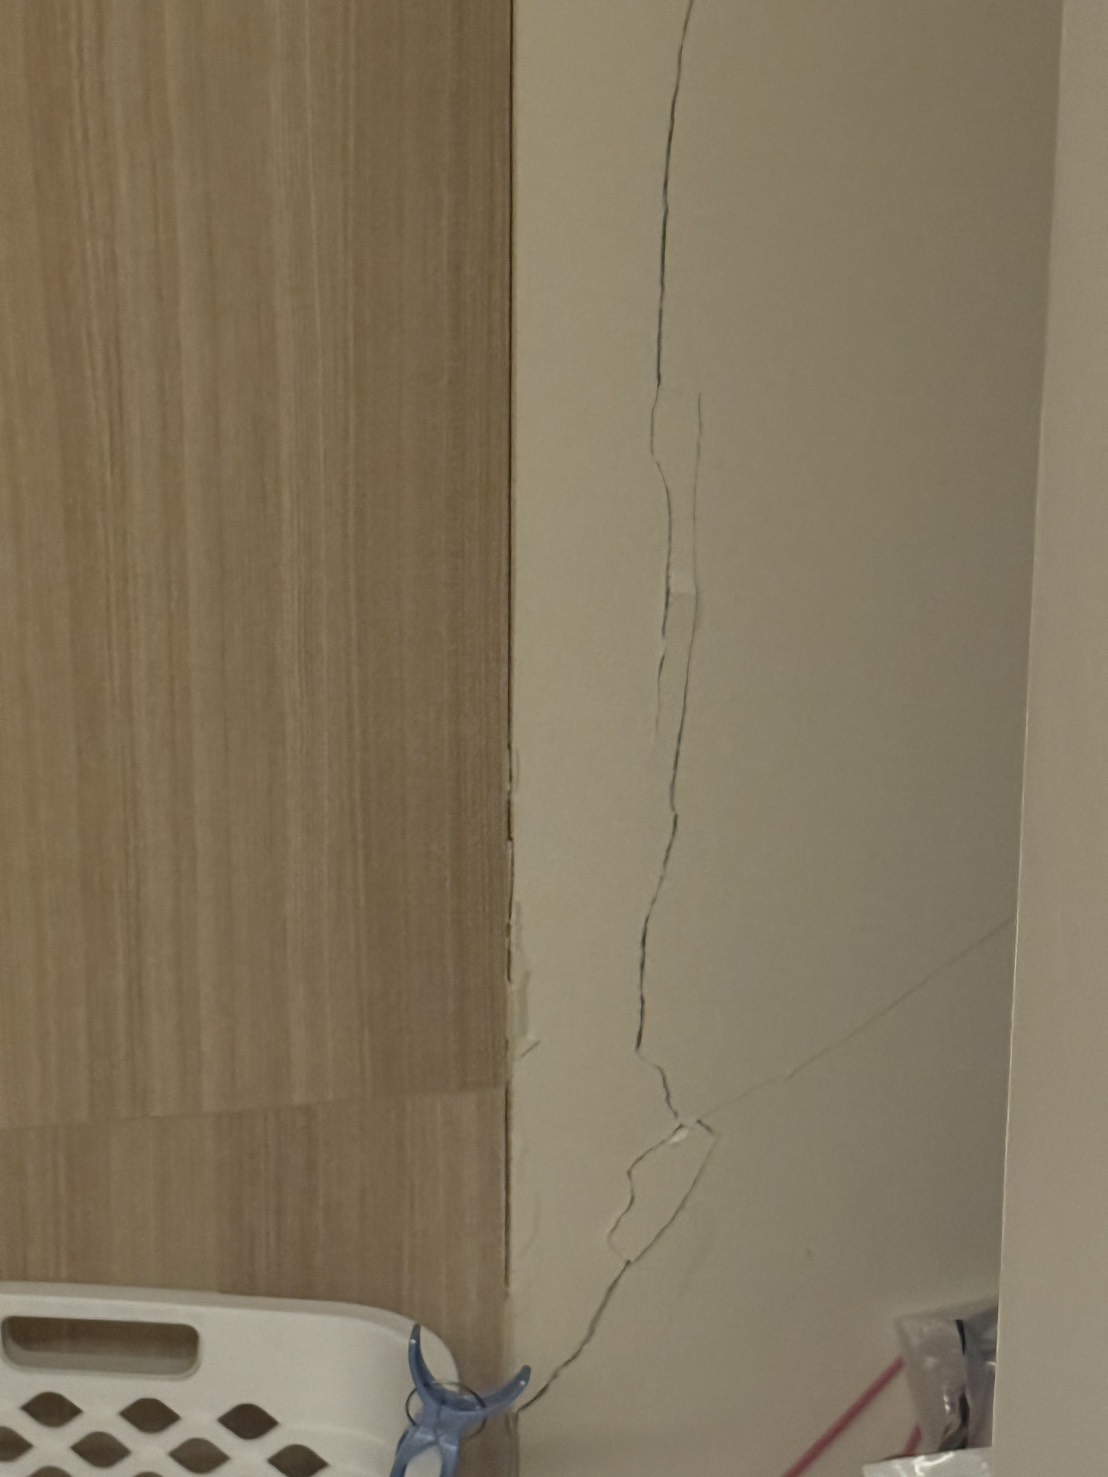Low: (505, 1, 994, 1420)
